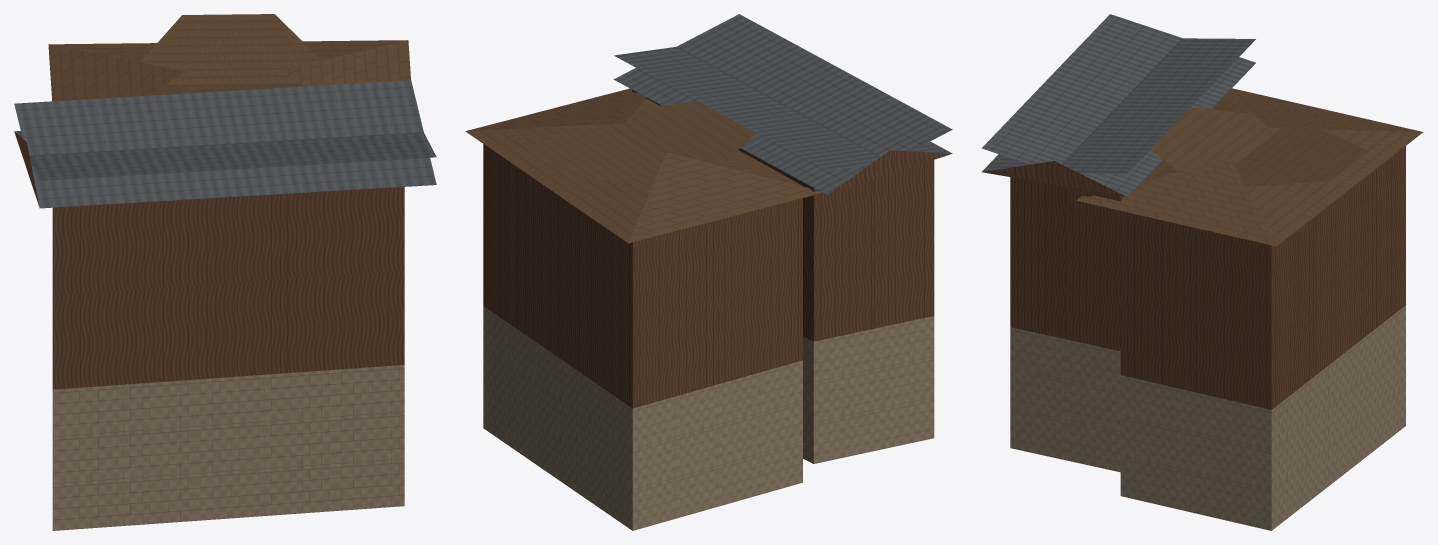
Rendered from bld_c43_31_274.gltf.
3 renders of one model, left to right at view 1: azimuth 30°, elevation 25°; view 2: azimuth 150°, elevation 25°; view 3: azimuth 270°, elevation 25°, orthographic. The views are drawn at different scales.
Visible parts, largest first — view 1: bld_c43_31_274; view 2: bld_c43_31_274; view 3: bld_c43_31_274.
Boxes of the visible parts, <box> form: bld_c43_31_274: <box>14,14,436,530</box>; bld_c43_31_274: <box>465,14,952,530</box>; bld_c43_31_274: <box>981,14,1422,530</box>.
Bounding box in the file's own units: 17.6 × 13.9 × 16.89.
Materials: 5 (5 with a texture image).
